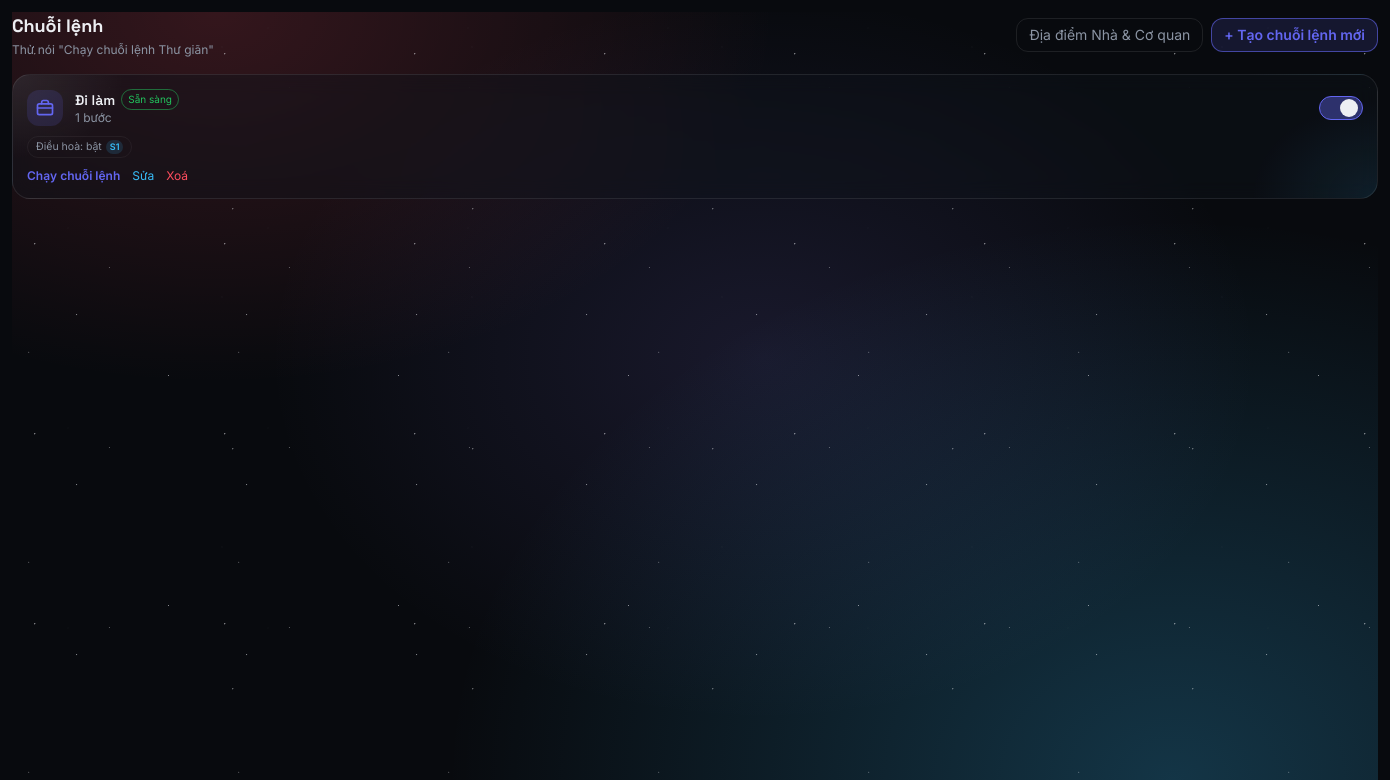
RoutinesView — voice-run thiếu địa điểm (#385) › mở panel bằng tay (không qua voice-run) không tự nổi hàng nào
Check: the text "Đi làm" is shown, box [75,90,115,110]
Click the button "Địa điểm Nhà & Cơ quan". click: (1110, 35)
box: [1016,18,1203,52]
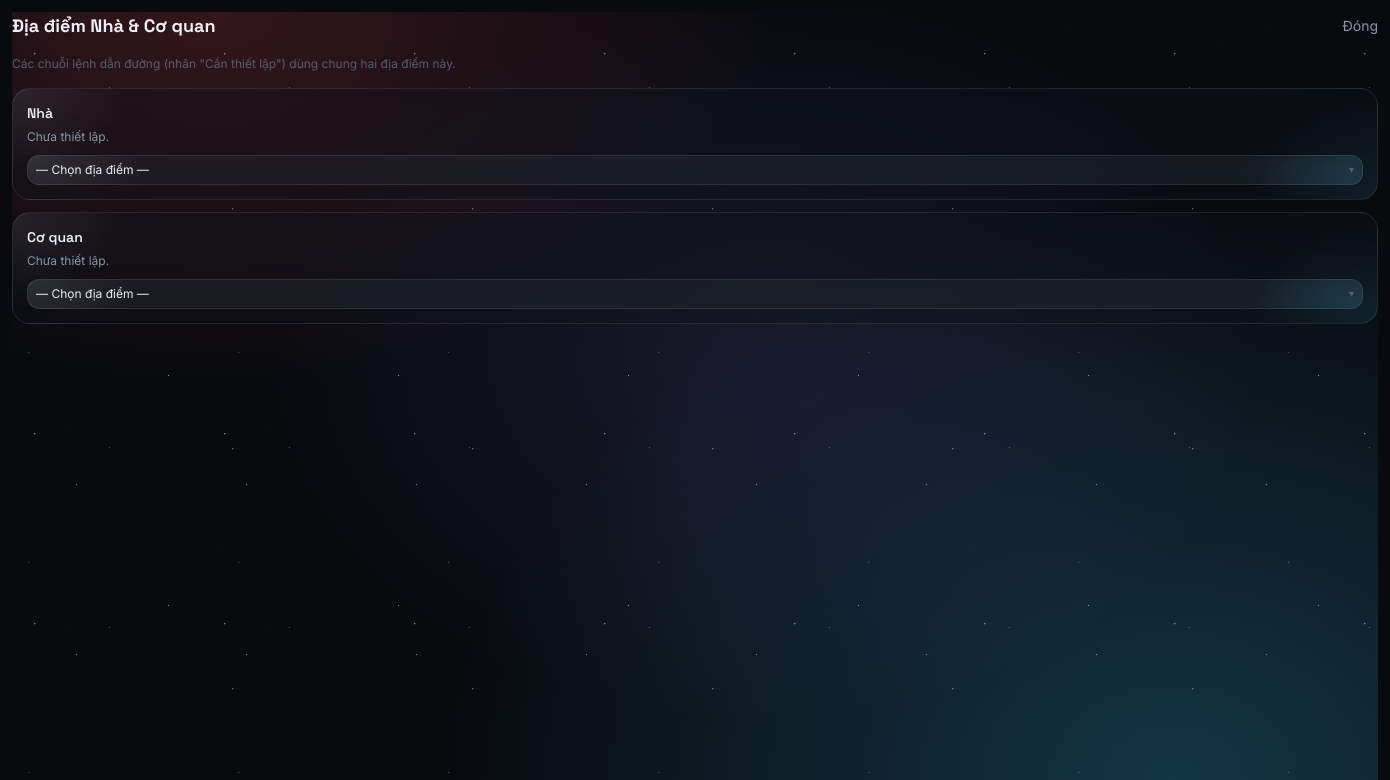
Check: the text "dùng chung hai địa điểm này" is shown, box [12,56,456,71]
